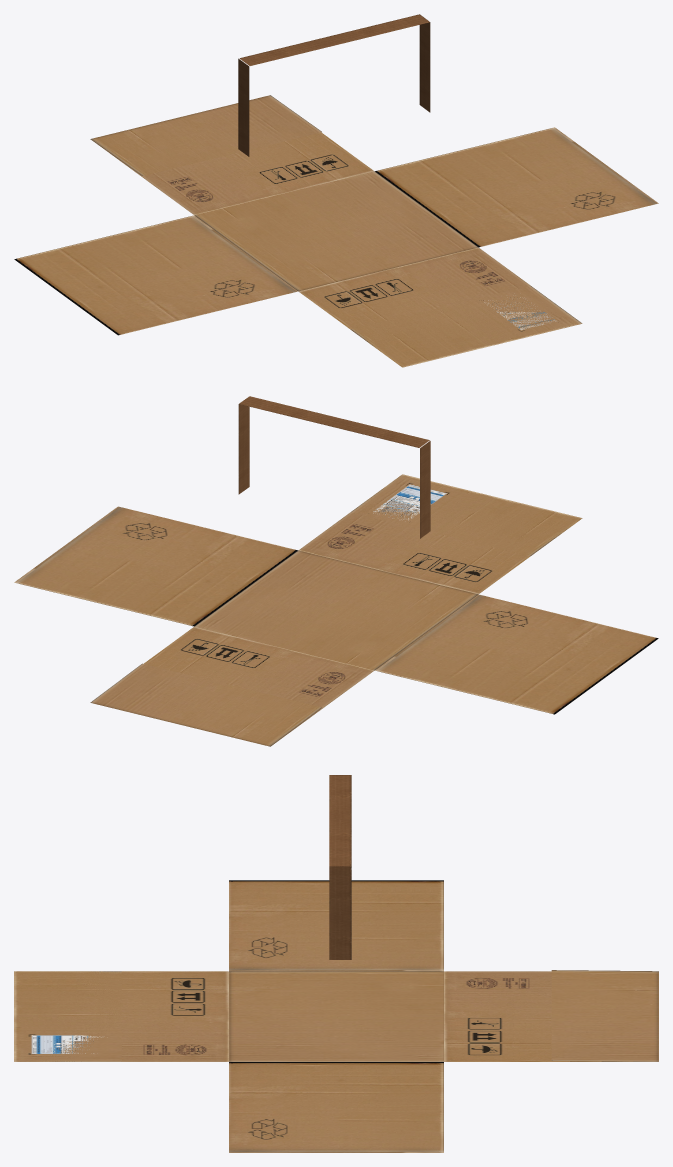
Rendered from cubeAnimate.glb.
3 renders of one model, top to bottom at view 1: azimuth 30°, elevation 25°; view 2: azimuth 150°, elevation 25°; view 3: azimuth 270°, elevation 25°, orthographic. The views are drawn at different scales.
Visible parts, largest first — view 1: base, left, right, back, front, topLeft, topRight, scotchCenter, scotchStart, scotchEnd; view 2: right, left, base, back, topLeft, front, topRight, scotchCenter, scotchEnd, scotchStart; view 3: right, base, left, back, front, topLeft, topRight, scotchEnd, scotchCenter.
Boxes of the visible parts, x1,y1,x2,y2 form: base: [195, 171, 478, 291]; left: [14, 215, 297, 335]; right: [375, 127, 658, 247]; back: [298, 247, 582, 367]; front: [99, 132, 373, 215]; topLeft: [90, 95, 321, 175]; topRight: [350, 285, 581, 347]; scotchCenter: [239, 14, 429, 65]; scotchStart: [238, 58, 249, 156]; scotchEnd: [419, 14, 430, 112]; right: [14, 506, 297, 626]; left: [375, 594, 658, 714]; base: [194, 550, 478, 670]; back: [298, 474, 582, 594]; topLeft: [90, 663, 321, 746]; front: [143, 626, 373, 738]; topRight: [351, 489, 571, 556]; scotchCenter: [239, 396, 429, 447]; scotchEnd: [238, 398, 249, 494]; scotchStart: [420, 441, 430, 538]; right: [229, 1062, 443, 1152]; base: [229, 971, 443, 1061]; left: [229, 880, 443, 971]; back: [14, 971, 228, 1061]; front: [444, 971, 633, 1061]; topLeft: [551, 970, 658, 1061]; topRight: [37, 971, 121, 1061]; scotchEnd: [329, 866, 351, 959]; scotchCenter: [329, 775, 351, 866].
Size of the model in its own units: 6 by 2.01 by 6.
Materials: 10 (10 with a texture image).
